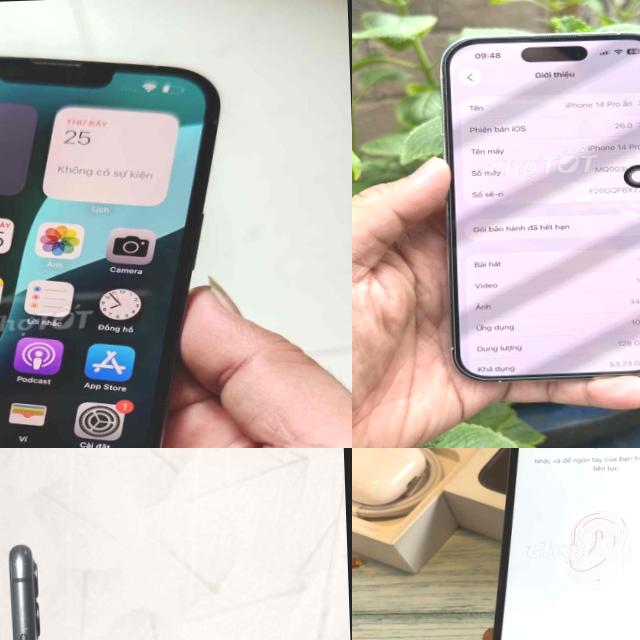gen_11: (0, 523, 81, 640)
gen_12_13: (0, 42, 240, 448)
gen_14: (433, 14, 640, 399)
gen_7_8: (473, 448, 640, 640)
